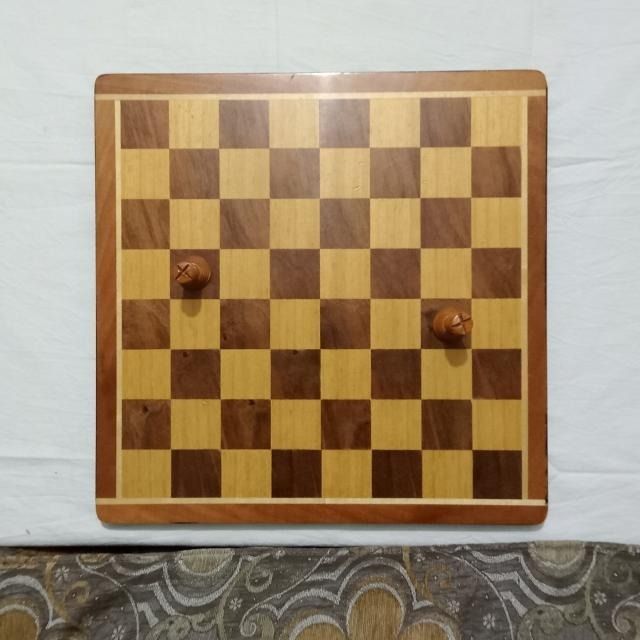white-rook: (430, 305, 474, 343), (172, 254, 212, 293)
